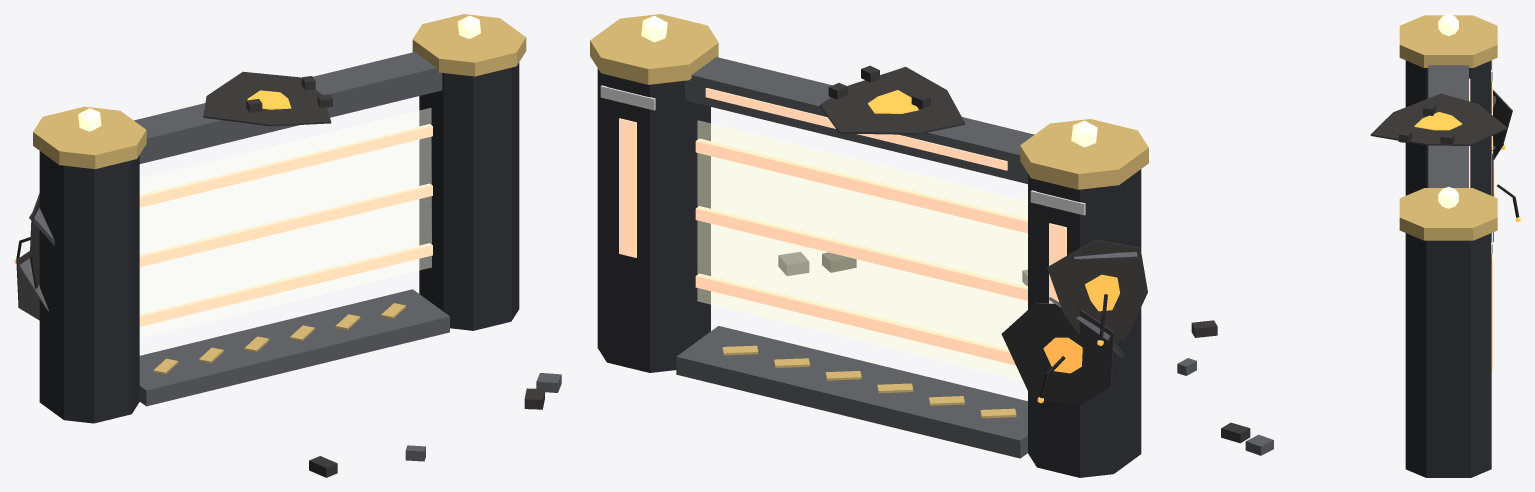
The model's file is Aegis_PulseGate.fbx.
3 renders of one model, left to right at view 1: azimuth 30°, elevation 25°; view 2: azimuth 150°, elevation 25°; view 3: azimuth 270°, elevation 25°, orthographic. The views are drawn at different scales.
Parts seen in each view (by area): view 1: PG_FieldSheet, PG_Tower-1, PG_Tower1, PG_Footing, PG_Header, PG_TowerCap-1, PG_TowerCap1, Aegis_PulseGate_DmgScorch3, PG_Beam0, PG_Beam1, PG_Beam2, Aegis_PulseGate_DmgScorch1 (+2 smaller); view 2: PG_FieldSheet, PG_Tower1, PG_Footing, PG_Tower-1, PG_Header, Aegis_PulseGate_DmgScorch1, PG_TowerCap-1, PG_TowerCap1, Aegis_PulseGate_DmgScorch3, Aegis_PulseGate_DmgScorch0, PG_Beam1, PG_Beam2 (+10 smaller); view 3: PG_Tower1, PG_TowerCap1, PG_TowerCap-1, PG_Tower-1, Aegis_PulseGate_DmgScorch3, PG_Header, Aegis_PulseGate_DmgScorch0, Aegis_PulseGate_DmgEmber3, Aegis_PulseGate_DmgRubble0, Aegis_PulseGate_DmgRubble1, Aegis_PulseGate_DmgRubble2, PG_Beacon-1 (+1 smaller).
Part boxes in pixels (x1,y1,x2,y2): PG_FieldSheet: [140, 108, 431, 338]; PG_Tower-1: [39, 151, 139, 423]; PG_Tower1: [419, 62, 519, 330]; PG_Footing: [139, 289, 449, 406]; PG_Header: [134, 52, 442, 163]; PG_TowerCap-1: [33, 106, 146, 168]; PG_TowerCap1: [412, 14, 526, 76]; Aegis_PulseGate_DmgScorch3: [203, 71, 331, 126]; PG_Beam0: [139, 243, 432, 326]; PG_Beam1: [139, 183, 432, 267]; PG_Beam2: [139, 124, 432, 207]; Aegis_PulseGate_DmgScorch1: [16, 251, 39, 320]; PG_FieldSheet: [697, 120, 1027, 380]; PG_Tower1: [597, 68, 710, 372]; PG_Footing: [676, 326, 1027, 458]; PG_Tower-1: [1028, 169, 1141, 477]; PG_Header: [685, 57, 1034, 183]; Aegis_PulseGate_DmgScorch1: [1001, 303, 1113, 405]; PG_TowerCap-1: [1020, 119, 1148, 189]; PG_TowerCap1: [590, 14, 718, 84]; Aegis_PulseGate_DmgScorch3: [820, 66, 964, 134]; Aegis_PulseGate_DmgScorch0: [1047, 239, 1147, 341]; PG_Beam1: [695, 206, 1027, 300]; PG_Beam2: [695, 138, 1027, 233]; PG_Tower1: [1405, 233, 1491, 477]; PG_TowerCap1: [1399, 188, 1497, 240]; PG_TowerCap-1: [1399, 15, 1497, 67]; PG_Tower-1: [1405, 60, 1491, 195]; Aegis_PulseGate_DmgScorch3: [1370, 93, 1507, 145]; PG_Header: [1428, 65, 1468, 187]; Aegis_PulseGate_DmgScorch0: [1493, 90, 1512, 159]; Aegis_PulseGate_DmgEmber3: [1414, 112, 1462, 130]; Aegis_PulseGate_DmgRubble0: [1221, 422, 1250, 443]; Aegis_PulseGate_DmgRubble1: [1245, 434, 1273, 455]; Aegis_PulseGate_DmgRubble2: [1191, 320, 1217, 337]; PG_Beacon-1: [1438, 14, 1458, 35].
Size of the model in its own units: 2.54 by 1.48 by 1.68.
